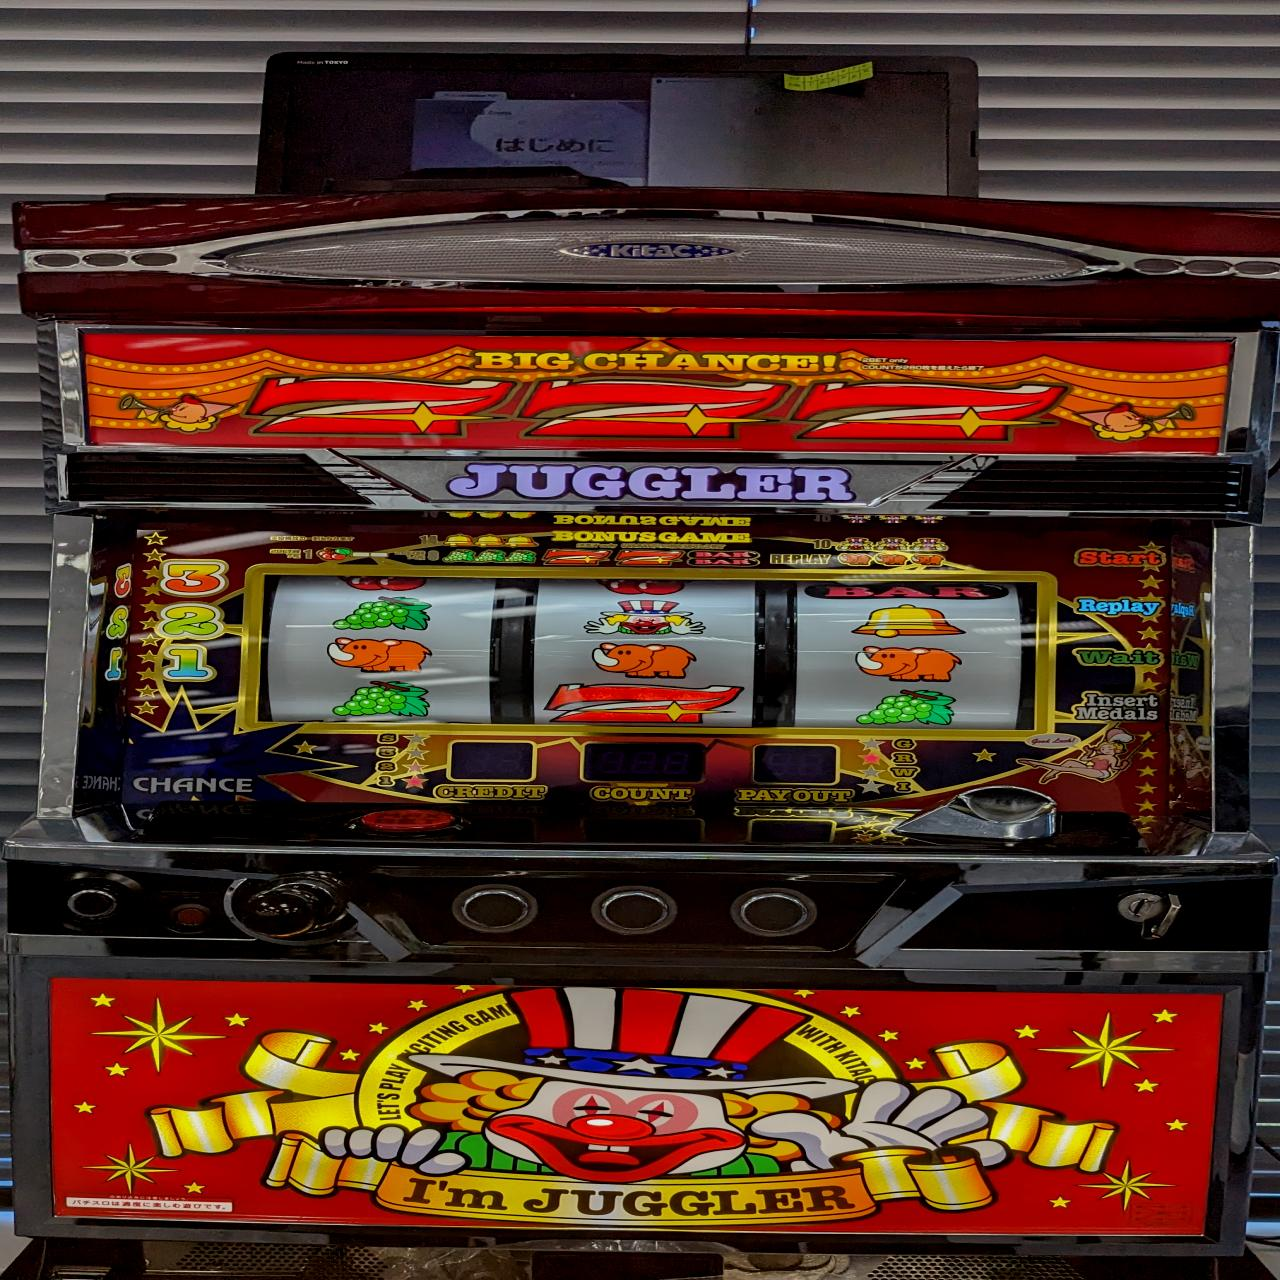7: (545, 681, 749, 727)
Display: (252, 566, 1043, 736)
bell: (849, 602, 972, 639)
clown: (581, 598, 709, 639)
grape: (851, 688, 959, 729), (333, 678, 435, 720), (331, 595, 434, 633)
rhino: (324, 634, 436, 675), (853, 644, 966, 683), (590, 641, 699, 680)
